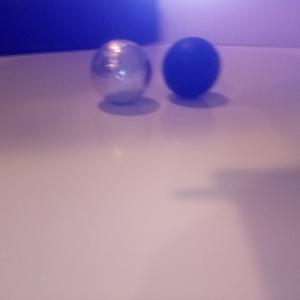alive_ball: (89, 39, 152, 105)
dead_ball: (160, 36, 221, 98)
